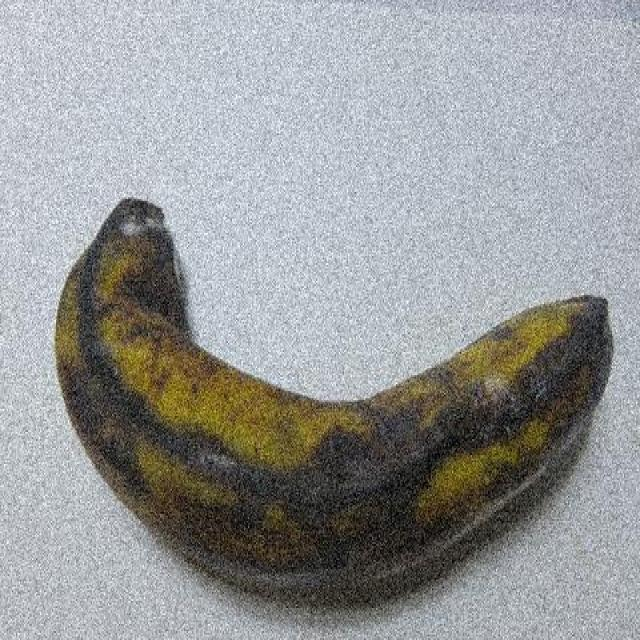Execivamente Madura: (50, 197, 632, 613)
